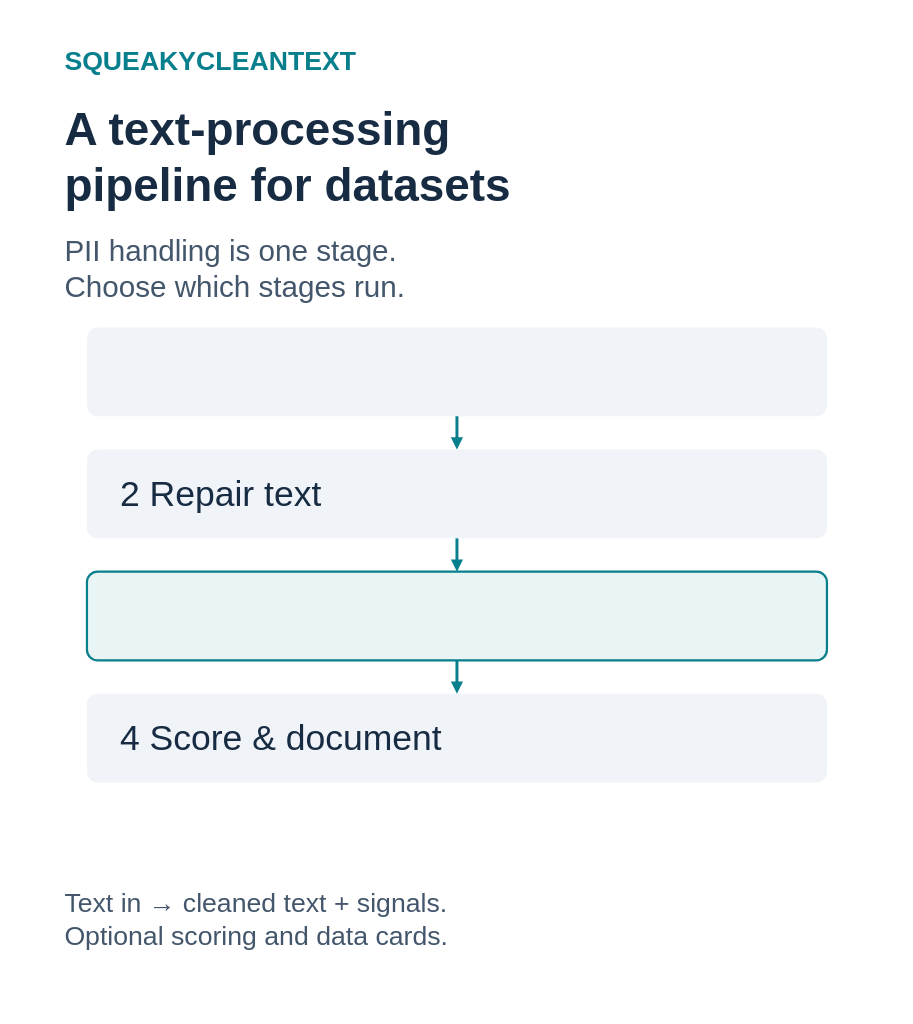
Image size: 913x1024. Some labels were removed from this diagram. The centre of each missing label's shape, as x and y in pixels:
1 Detect language: (x=457, y=371)
3 Handle personal data: (x=456, y=615)
